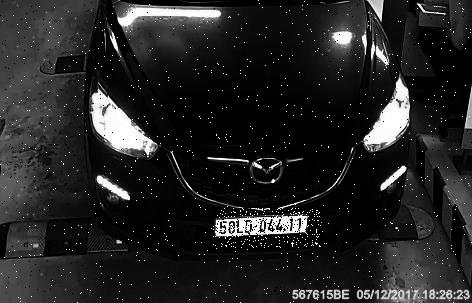License-plate: (215, 210, 322, 250)
